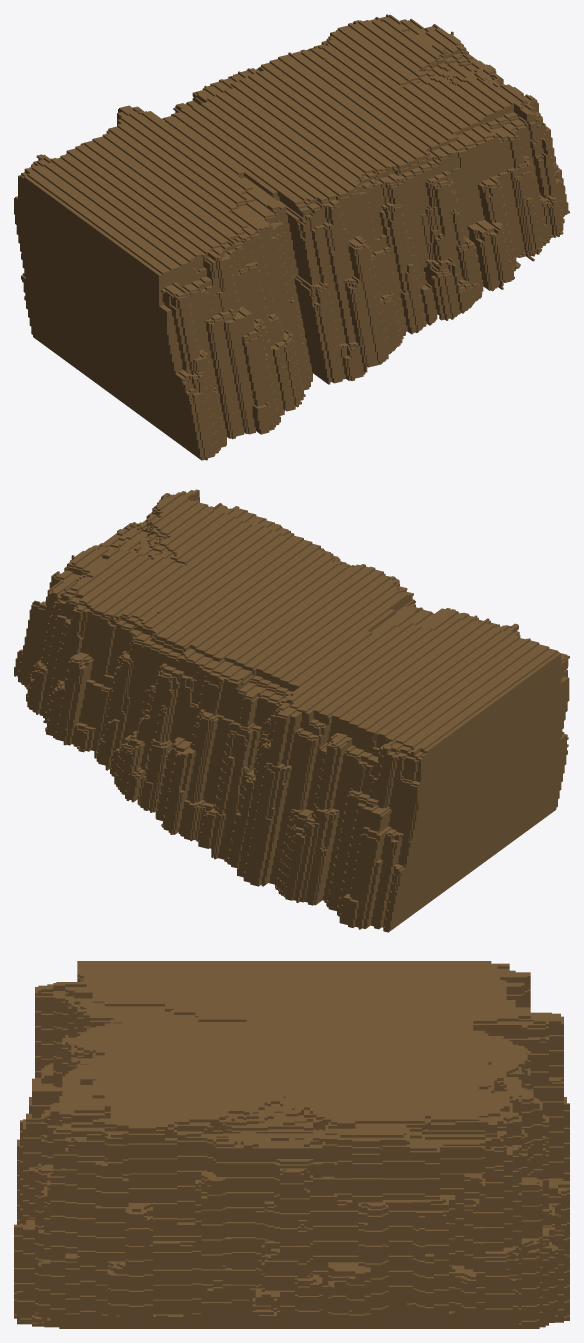
File: forest1.1-123.obj
3 views of the same model, one above another, from view 1: azimuth 30°, elevation 25°; view 2: azimuth 150°, elevation 25°; view 3: azimuth 270°, elevation 25° (orthographic). The views are drawn at different scales.
Size of the model in its own units: 25.4 by 14.2 by 18.4.
Materials: 1 (1 with a texture image).
